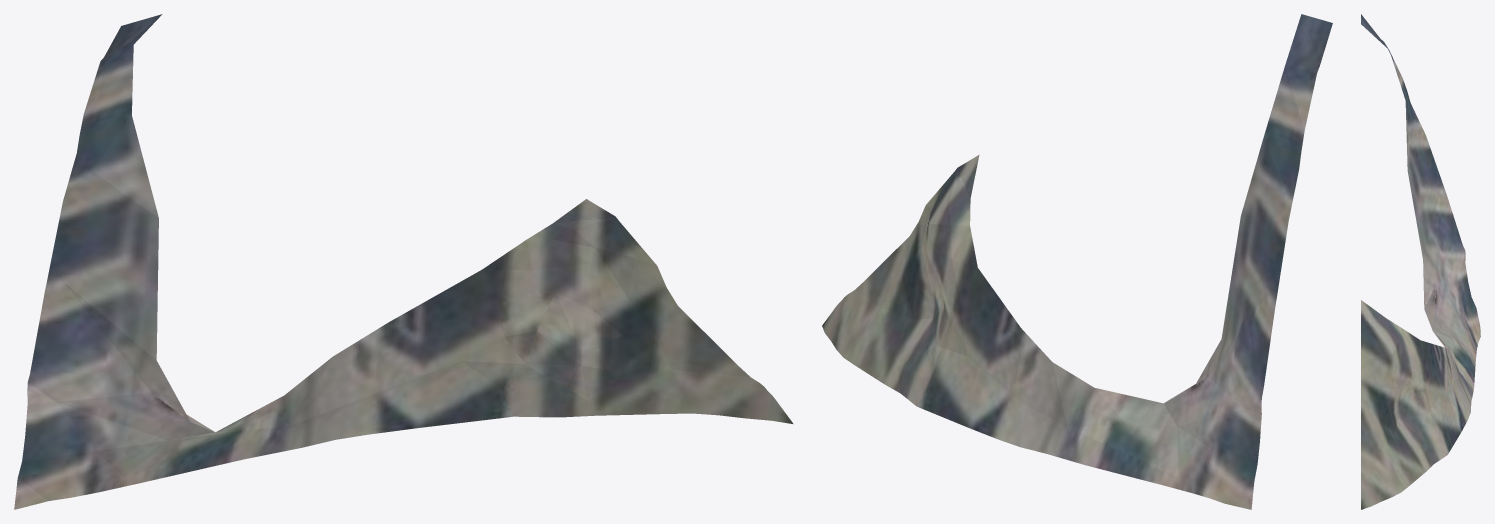
Rendered from Tile__002__007_L21_0001200.glb.
3 views of the same model, side by side, from view 1: azimuth 30°, elevation 25°; view 2: azimuth 150°, elevation 25°; view 3: azimuth 270°, elevation 25° (orthographic). The views are drawn at different scales.
Parts seen in each view (by area): view 1: root; view 2: root; view 3: root.
Part boxes in pixels (<box>): root: <box>14,14,793,509</box>; root: <box>822,14,1332,509</box>; root: <box>1361,14,1480,509</box>.
Size of the model in its own units: 24.08 by 19.31 by 6.67.
Materials: 1 (1 with a texture image).
